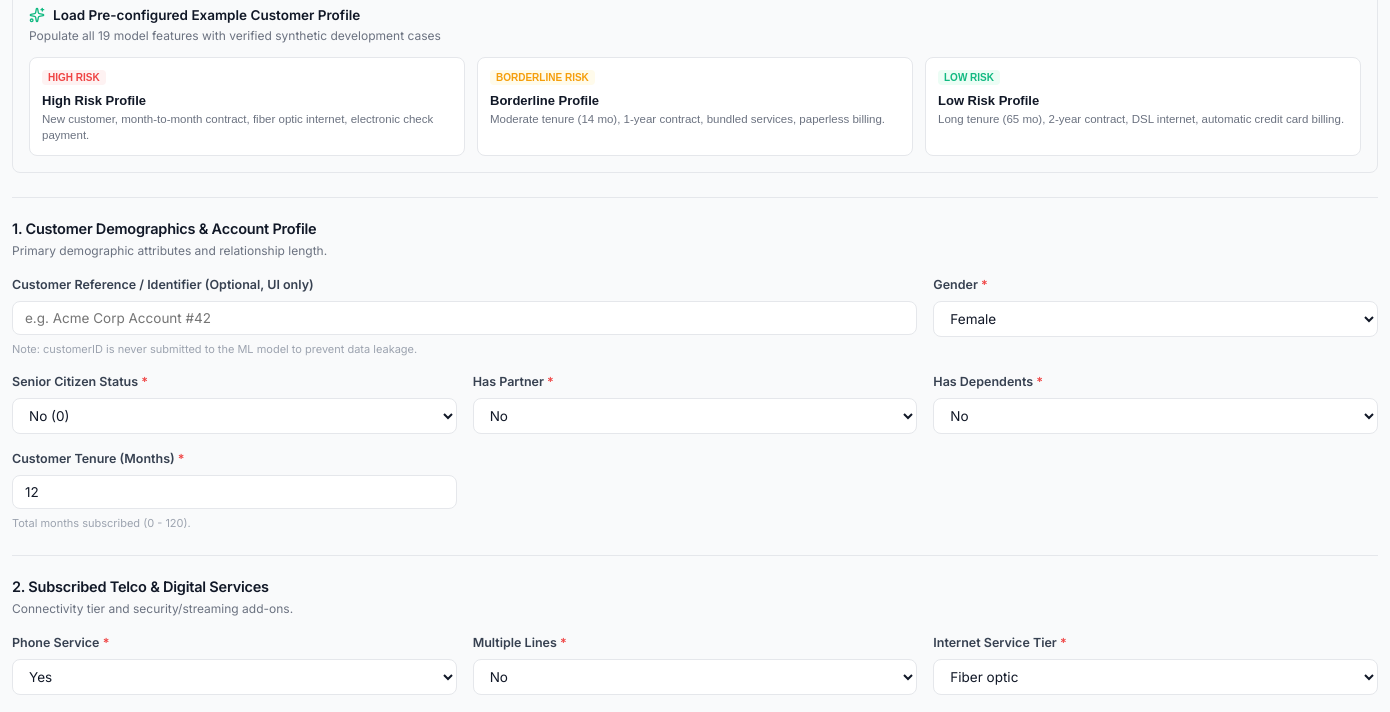
Test: Frontend Component & Integration Tests › populates form fields when clicking a synthetic sample customer button
What coordinates should you click on to do the following:
click the text "High Risk Profile"
I would click on:
 (94, 101)
Its box is x1=42 y1=93 x2=146 y2=108.
(page scrolled)
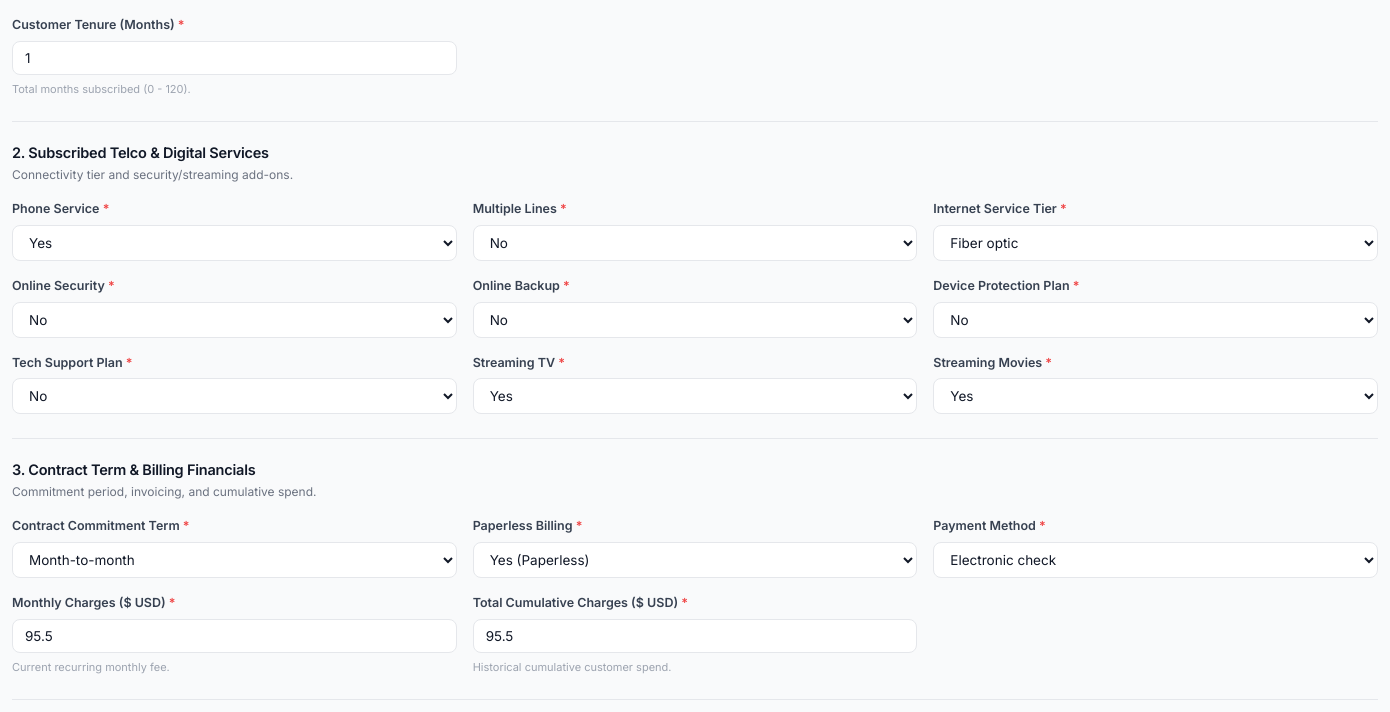
Expected: the number field labelled "Customer Tenure (Months) *" holds "1", x1=12 y1=41 x2=457 y2=75
Expected: the number field labelled "Monthly Charges ($ USD) *" holds "95.5", x1=12 y1=618 x2=457 y2=652
